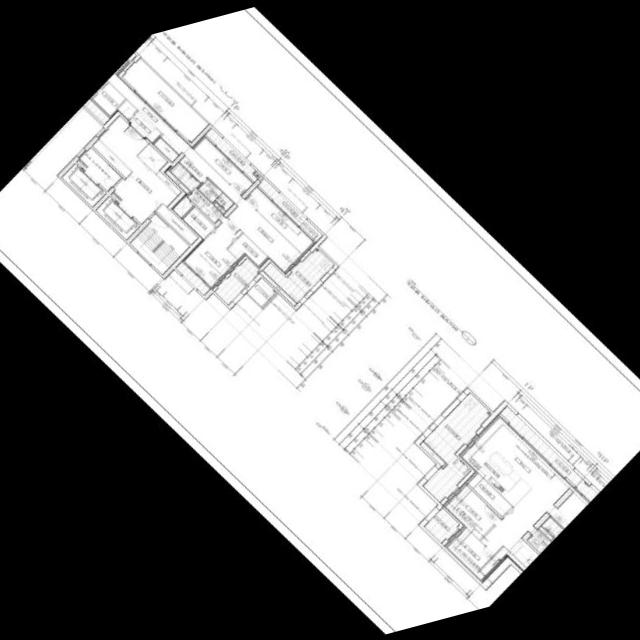background: (0, 6, 640, 634)
space_balconi: (500, 405, 598, 501), (422, 392, 491, 501), (122, 57, 208, 141), (258, 177, 322, 240), (262, 247, 333, 301), (205, 127, 257, 180), (214, 257, 259, 303), (424, 507, 459, 542), (175, 260, 210, 294), (246, 276, 275, 306)
space_bedroom: (245, 185, 315, 253), (182, 217, 242, 288), (192, 134, 253, 194), (444, 525, 501, 581), (550, 488, 588, 528)
space_dressroom: (227, 232, 268, 267), (182, 206, 215, 238)
space_elevator: (95, 195, 139, 239), (61, 162, 105, 206)
space_elevator_hall: (76, 114, 177, 223)
space_front: (117, 99, 161, 142), (505, 537, 538, 570)
space_kitchen: (458, 431, 535, 506)
space_living_room: (107, 59, 302, 273), (481, 413, 571, 560)
space_multipurpose_space: (442, 482, 499, 538)
space_other: (466, 470, 511, 515), (155, 202, 197, 244), (92, 138, 131, 177), (259, 269, 296, 305), (137, 142, 167, 173), (153, 136, 178, 161), (419, 440, 444, 465), (164, 168, 189, 193), (156, 170, 181, 194), (171, 194, 193, 217), (538, 525, 552, 539), (211, 204, 222, 215)
space_staircase: (129, 214, 189, 273)
space_toilet: (170, 161, 222, 221), (179, 155, 233, 209), (527, 528, 551, 552), (541, 516, 563, 537)
